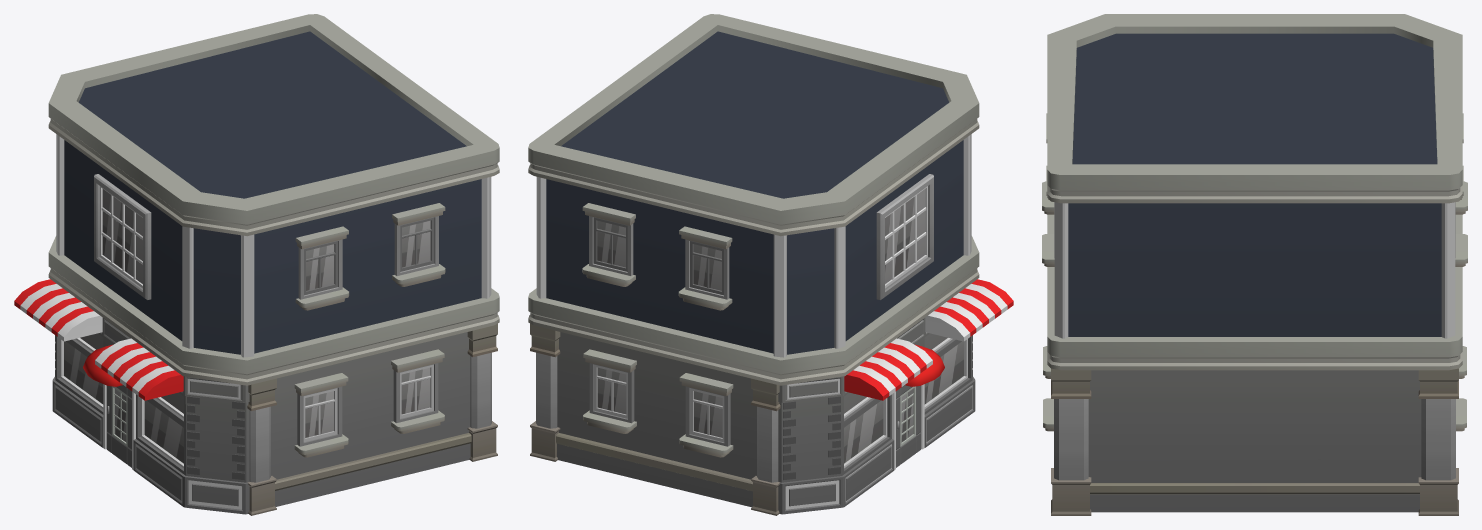
Rendered from Building_3_2_K.fbx.
3 views of the same model, side by side, from view 1: azimuth 30°, elevation 25°; view 2: azimuth 150°, elevation 25°; view 3: azimuth 270°, elevation 25° (orthographic). The views are drawn at different scales.
Visible parts, largest first — view 1: Building 3_2_K; view 2: Building 3_2_K; view 3: Building 3_2_K.
Boxes of the visible parts, x1,y1,x2,y2 form: Building 3_2_K: [14, 14, 499, 515]; Building 3_2_K: [528, 14, 1013, 515]; Building 3_2_K: [1042, 14, 1467, 515].
Size of the model in its own units: 820 by 726 by 816.
